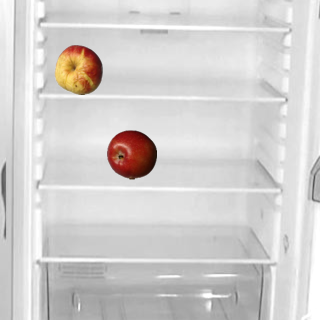Apple Braeburn: (106, 129, 156, 179)
Apple Red Yellow 1: (53, 44, 103, 94)
